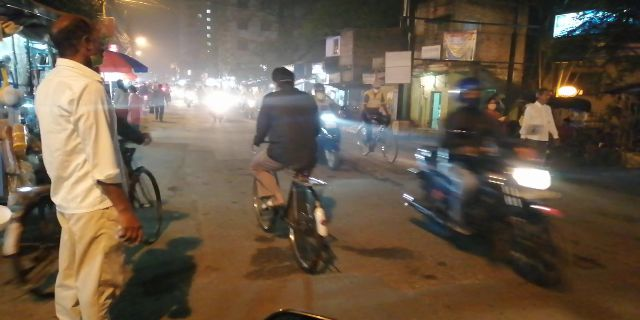Cycle: (249, 62, 341, 280)
Motorbike: (414, 136, 582, 291)
